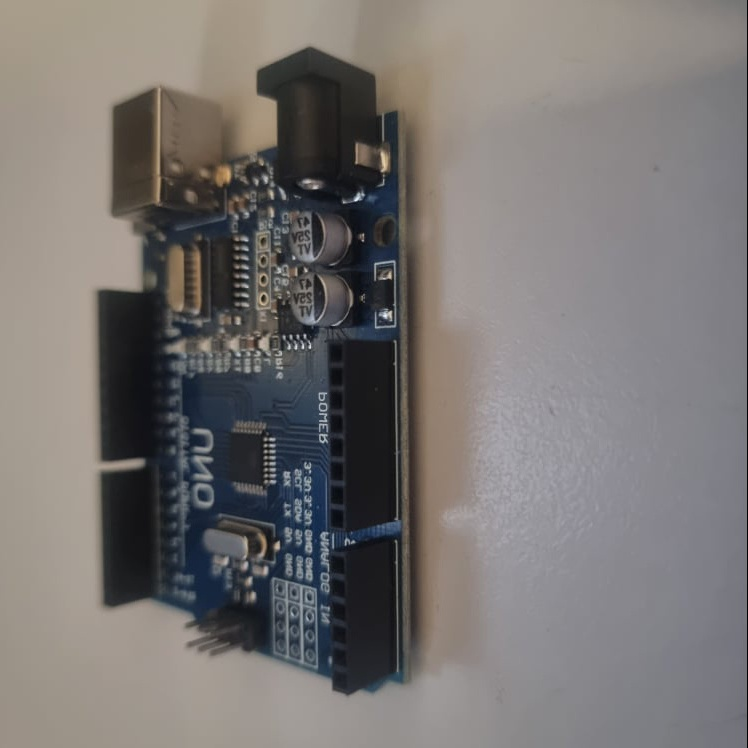UNO R3: (92, 46, 416, 697)
